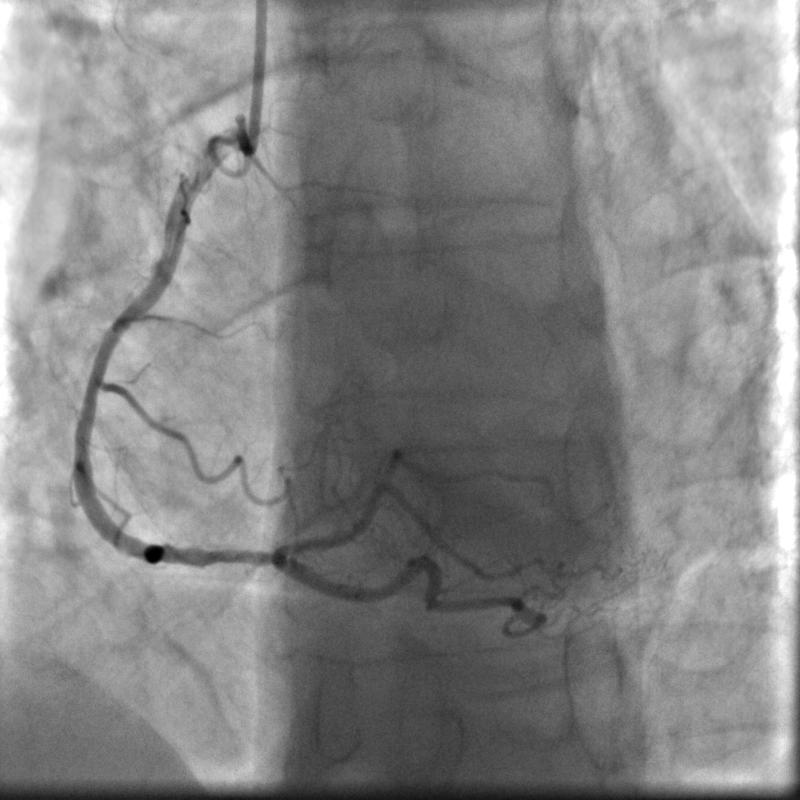Stenosis: (191, 536, 278, 583)
